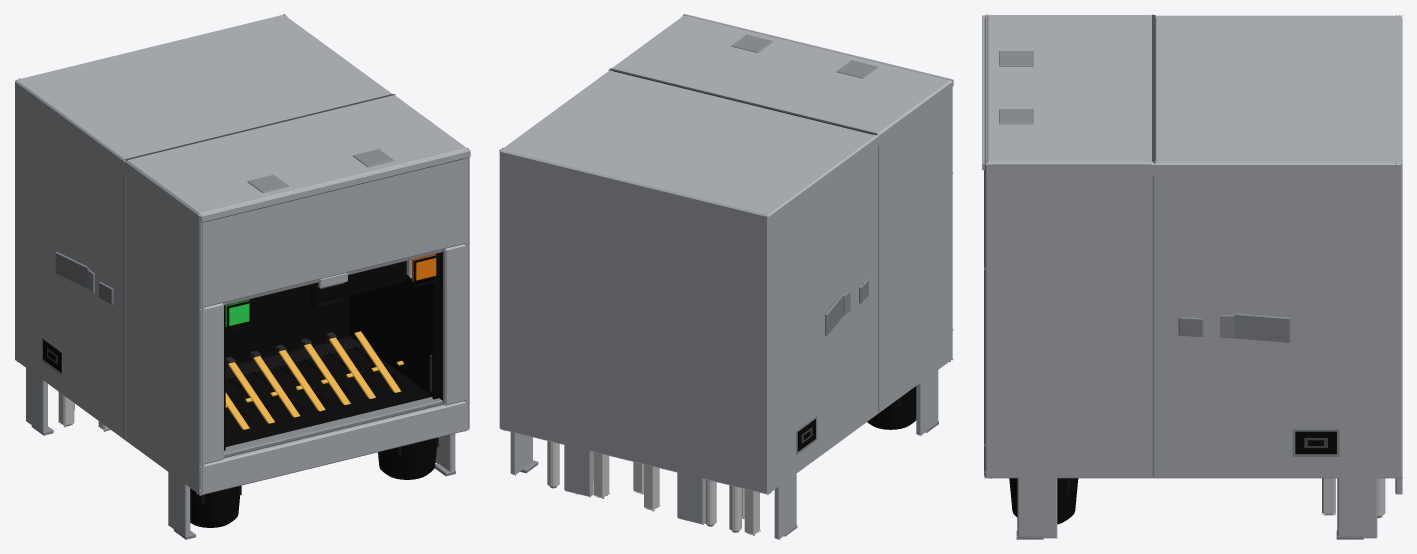
Rendered from rj45_connector.obj.
3 views of the same model, side by side, from view 1: azimuth 30°, elevation 25°; view 2: azimuth 150°, elevation 25°; view 3: azimuth 270°, elevation 25° (orthographic). The views are drawn at different scales.
Bounding box in the file's own units: 14.52 × 16.45 × 16.28.
